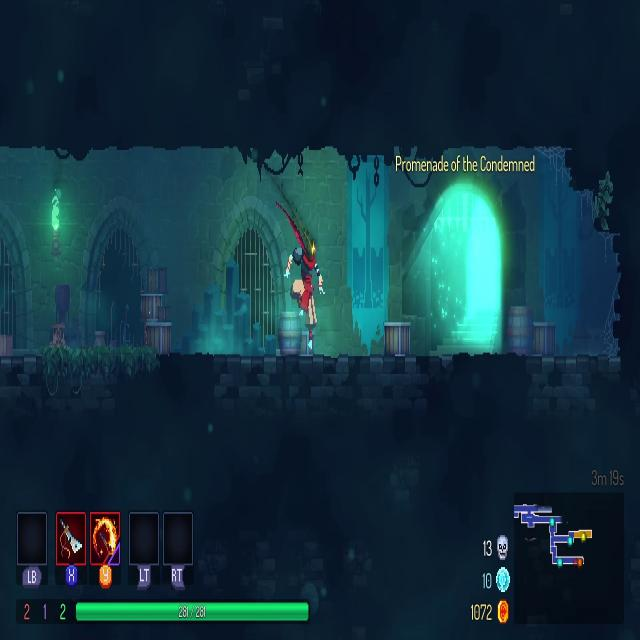agents: (282, 227, 326, 356)
door_nextLevel: (382, 153, 544, 358)
